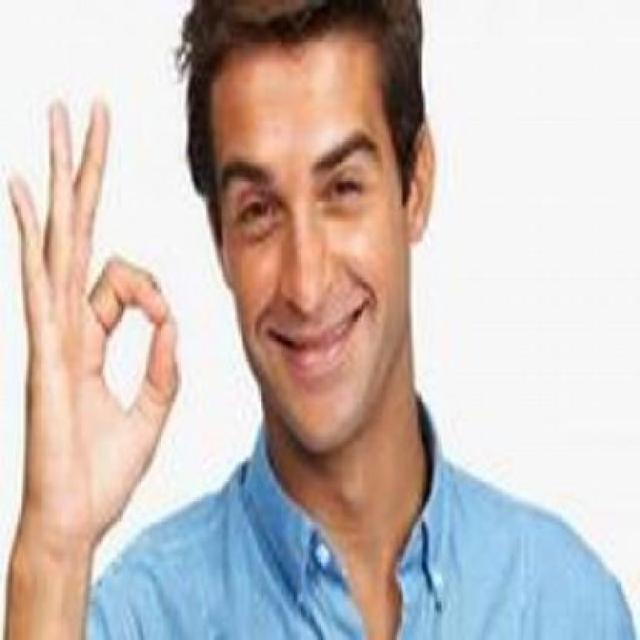no_apron: (0, 88, 183, 535)
